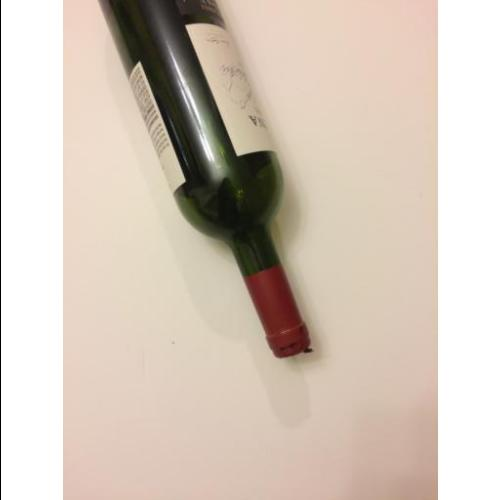glass: (100, 0, 307, 355)
